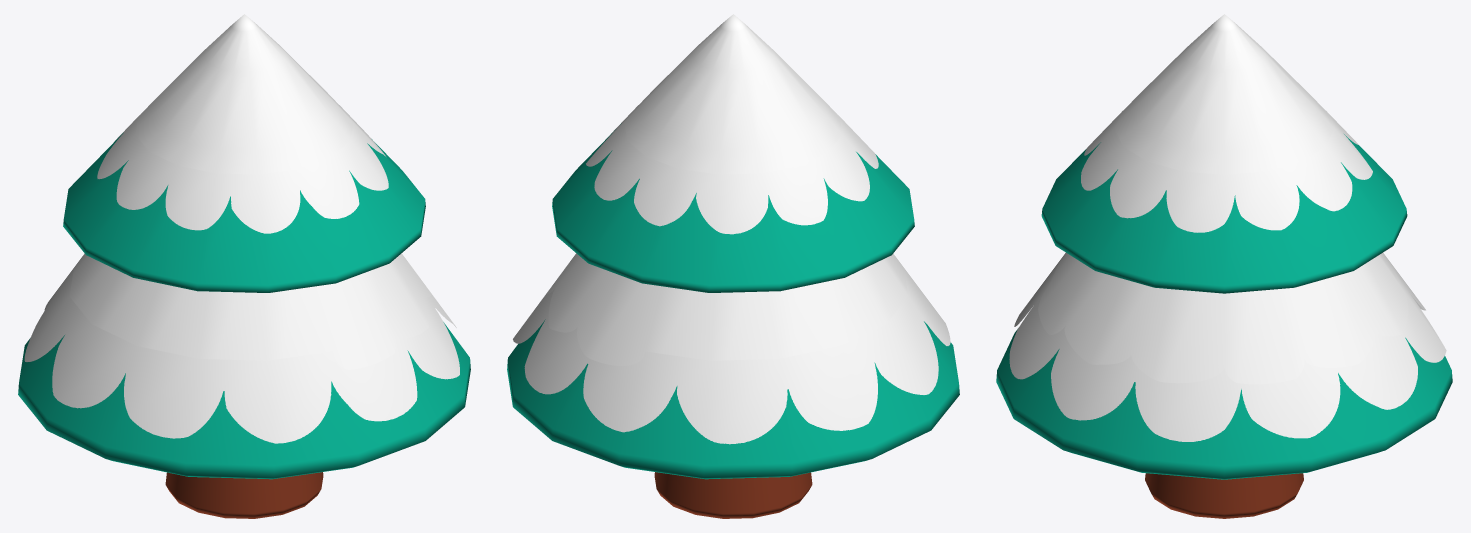
Rendered from TreePine.fbx.
3 views of the same model, side by side, from view 1: azimuth 30°, elevation 25°; view 2: azimuth 150°, elevation 25°; view 3: azimuth 270°, elevation 25° (orthographic).
Parts seen in each view (by area): view 1: TreePine7, TreePine2, TreePine1; view 2: TreePine7, TreePine2, TreePine1; view 3: TreePine7, TreePine2, TreePine1.
Boxes of the visible parts, x1,y1,x2,y2 form: TreePine7: (18, 253, 470, 479); TreePine2: (63, 14, 425, 292); TreePine1: (165, 472, 323, 518); TreePine7: (507, 253, 959, 479); TreePine2: (552, 14, 914, 292); TreePine1: (654, 472, 812, 518); TreePine7: (996, 253, 1452, 479); TreePine2: (1041, 14, 1407, 293); TreePine1: (1145, 473, 1303, 518).
Size of the model in its own units: 3.92 by 4.41 by 3.92.
Materials: 2 (2 with a texture image).
